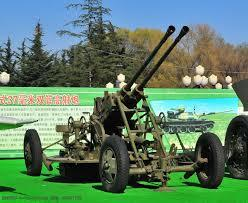MIL_SPG: (24, 26, 225, 193)
